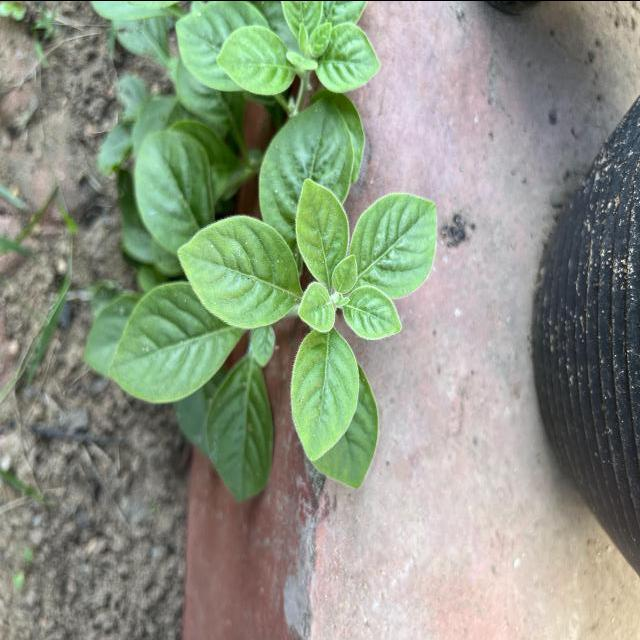Aerva lanata: (174, 211, 302, 331), (288, 324, 362, 464), (349, 189, 439, 301), (292, 176, 350, 285), (340, 282, 403, 340), (295, 277, 338, 335), (330, 252, 359, 296)
